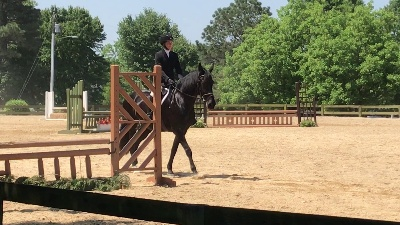jetta: (116, 62, 219, 177)
